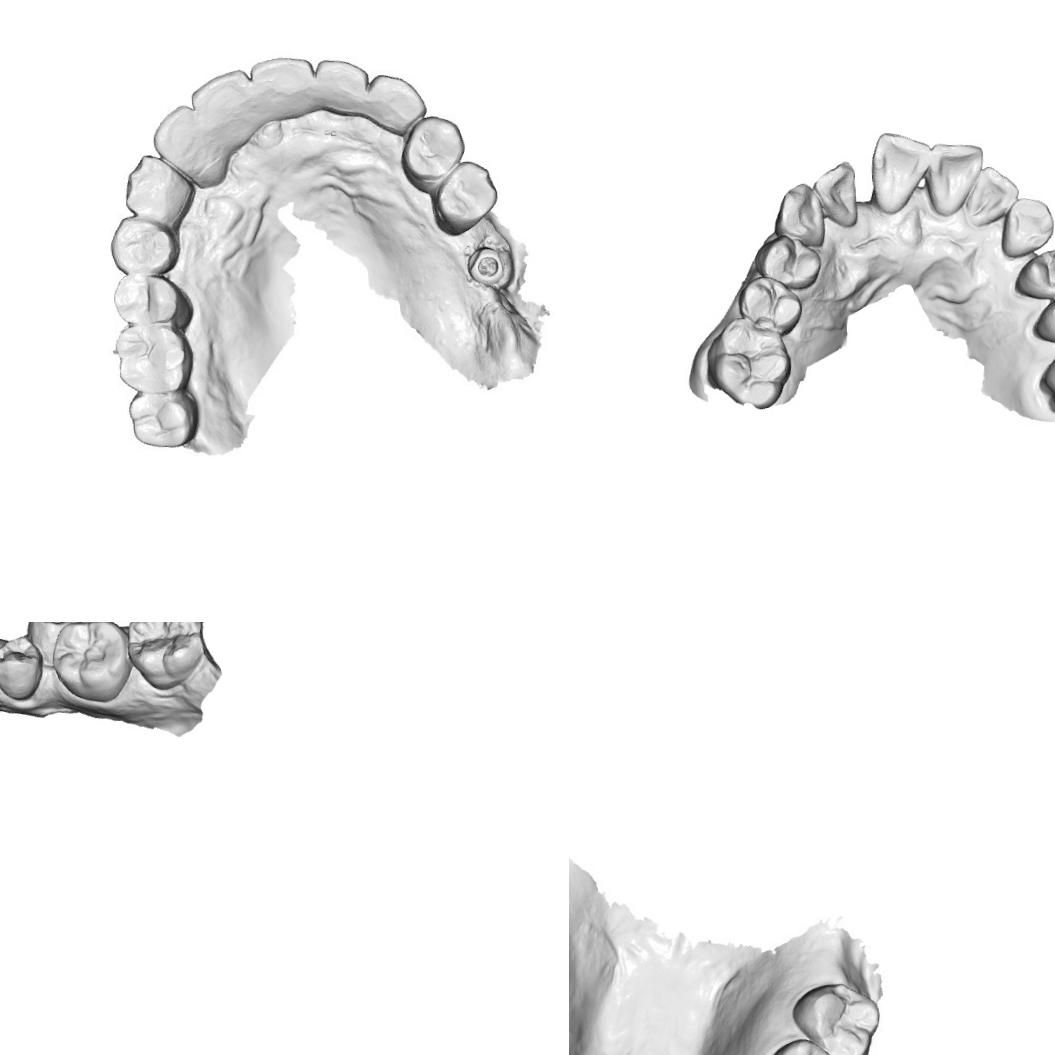canine: (362, 72, 426, 138), (125, 156, 188, 221), (771, 181, 827, 250), (997, 195, 1055, 261)
implant: (463, 242, 509, 288)
incisor: (866, 129, 935, 216), (192, 71, 262, 149), (922, 138, 988, 218), (154, 106, 223, 181), (249, 53, 325, 121), (962, 163, 1022, 229), (315, 56, 369, 120), (812, 158, 859, 230)
molar: (702, 314, 795, 412), (48, 622, 135, 705), (789, 978, 882, 1055), (110, 320, 196, 398), (123, 622, 205, 693), (125, 385, 204, 455), (757, 1035, 850, 1055), (1036, 328, 1055, 418)
premolar: (424, 154, 504, 239), (99, 212, 186, 282), (397, 113, 466, 197), (109, 268, 200, 330), (751, 232, 824, 293), (734, 274, 803, 338), (0, 633, 46, 702), (23, 622, 86, 668), (1011, 248, 1055, 301), (1033, 287, 1055, 345)
